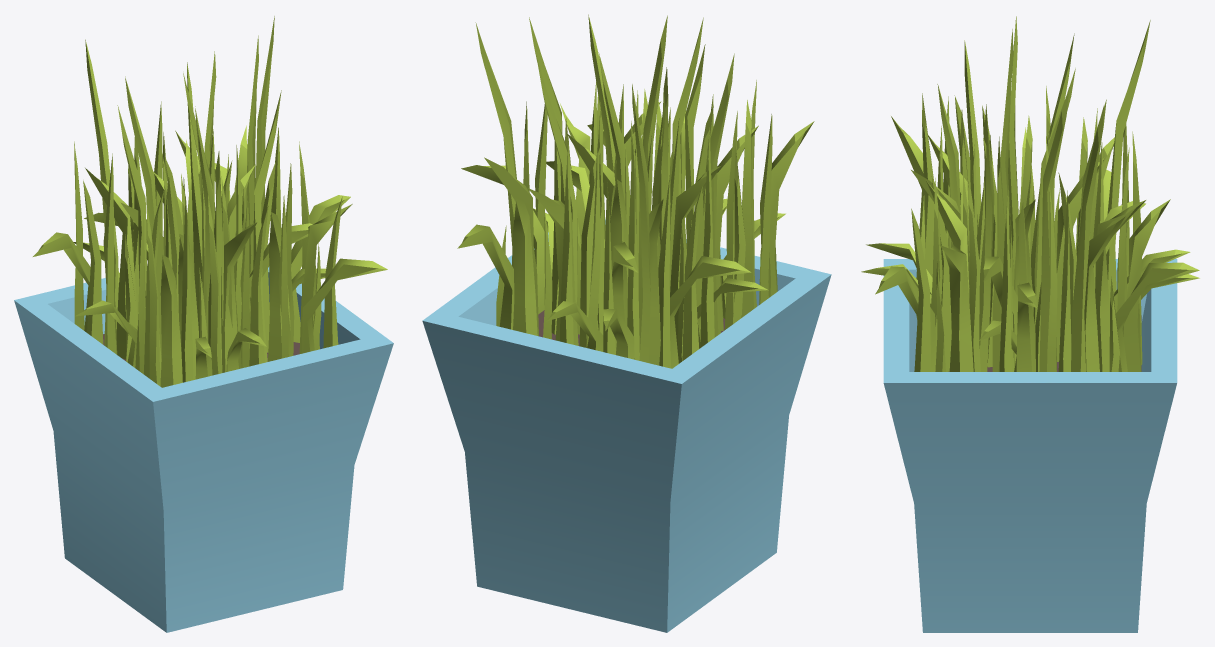
Rendered from plant01_05.gltf.
The picture shows the model from 3 angles, left to right: view 1: azimuth 30°, elevation 25°; view 2: azimuth 150°, elevation 25°; view 3: azimuth 270°, elevation 25°; orthographic projection. The views are drawn at different scales.
Parts seen in each view (by area): view 1: plant01_stage01:pot, plant01_stage04:pCube24, plant01_stage04:pCube8, plant01_stage04:pCube20, plant01_stage04:pCube5, plant01_stage04:pCube16, plant01_stage04:pCube27, plant01_stage04:plant01_stage03:pCube3, plant01_stage04:pCube26, plant01_stage04:pCube28, plant01_stage04:plant01_stage03:pCube31, plant01_stage04:plant01_stage03:pCube7 (+34 smaller); view 2: plant01_stage01:pot, plant01_stage04:pCube31, plant01_stage04:pCube27, pCube4, plant01_stage04:pCube30, plant01_stage04:pCube24, plant01_stage04:plant01_stage03:pCube23, plant01_stage04:pCube8, plant01_stage04:pCube26, plant01_stage04:pCube28, plant01_stage04:pCube7, plant01_stage04:pCube3 (+36 smaller); view 3: plant01_stage01:pot, pCube27, plant01_stage04:pCube4, plant01_stage04:plant01_stage03:pCube24, plant01_stage04:pCube31, plant01_stage04:plant01_stage03:pCube10, plant01_stage04:pCube27, plant01_stage04:pCube9, plant01_stage04:plant01_stage03:pCube25, plant01_stage04:pCube25, plant01_stage04:pCube30, plant01_stage04:pCube2 (+34 smaller).
Part boxes in pixels (x1,y1,x2,y2): plant01_stage01:pot: (14, 266, 393, 632); plant01_stage04:pCube24: (160, 254, 182, 387); plant01_stage04:pCube8: (85, 168, 137, 359); plant01_stage04:pCube20: (268, 212, 290, 361); plant01_stage04:pCube5: (221, 222, 256, 372); plant01_stage04:pCube16: (301, 258, 387, 353); plant01_stage04:pCube27: (85, 39, 118, 345); plant01_stage04:plant01_stage03:pCube3: (187, 62, 202, 337); plant01_stage04:pCube26: (83, 180, 101, 343); plant01_stage04:pCube28: (103, 153, 117, 354); plant01_stage04:plant01_stage03:pCube31: (181, 196, 193, 382); plant01_stage04:plant01_stage03:pCube7: (249, 205, 268, 366); plant01_stage01:pot: (422, 219, 831, 632); plant01_stage04:pCube31: (513, 196, 537, 335); plant01_stage04:pCube27: (632, 84, 650, 362); pCube4: (741, 100, 756, 317); plant01_stage04:pCube30: (457, 224, 514, 329); plant01_stage04:pCube24: (759, 121, 814, 299); plant01_stage04:plant01_stage03:pCube23: (658, 175, 671, 368); plant01_stage04:pCube8: (649, 199, 663, 365); plant01_stage04:pCube26: (682, 184, 702, 360); plant01_stage04:pCube28: (700, 127, 714, 347); plant01_stage04:pCube7: (670, 166, 721, 352); plant01_stage04:pCube3: (670, 256, 751, 368); plant01_stage01:pot: (883, 259, 1177, 632); pCube27: (1071, 106, 1103, 371); plant01_stage04:pCube4: (939, 245, 973, 371); plant01_stage04:plant01_stage03:pCube24: (1039, 87, 1069, 371); plant01_stage04:pCube31: (1123, 199, 1170, 371); plant01_stage04:plant01_stage03:pCube10: (979, 104, 994, 371); plant01_stage04:pCube27: (1106, 20, 1150, 308); plant01_stage04:pCube9: (1084, 216, 1125, 371); plant01_stage04:plant01_stage03:pCube25: (1095, 200, 1145, 371); plant01_stage04:pCube25: (911, 208, 931, 371); plant01_stage04:pCube30: (1115, 262, 1199, 371); plant01_stage04:pCube2: (1016, 282, 1037, 371).
Bounding box in the file's own units: 0.0167 × 0.028 × 0.0158.
2 materials, 1 textured.
